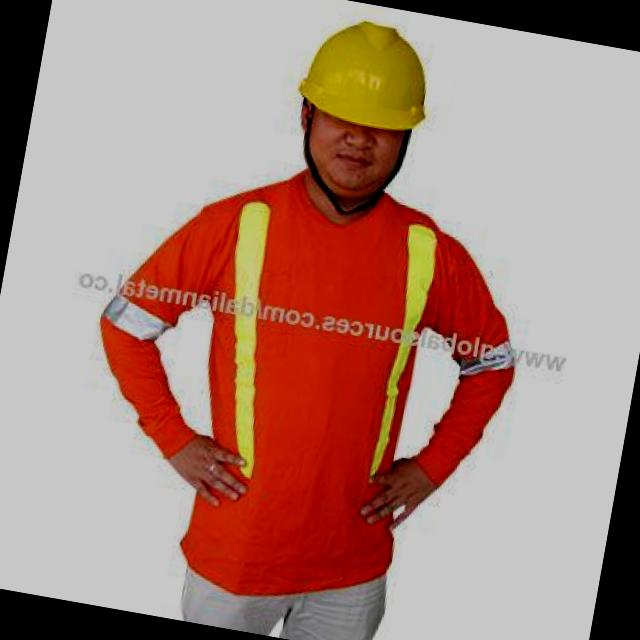helmet: (290, 10, 448, 148)
no-vest: (106, 151, 528, 638)
